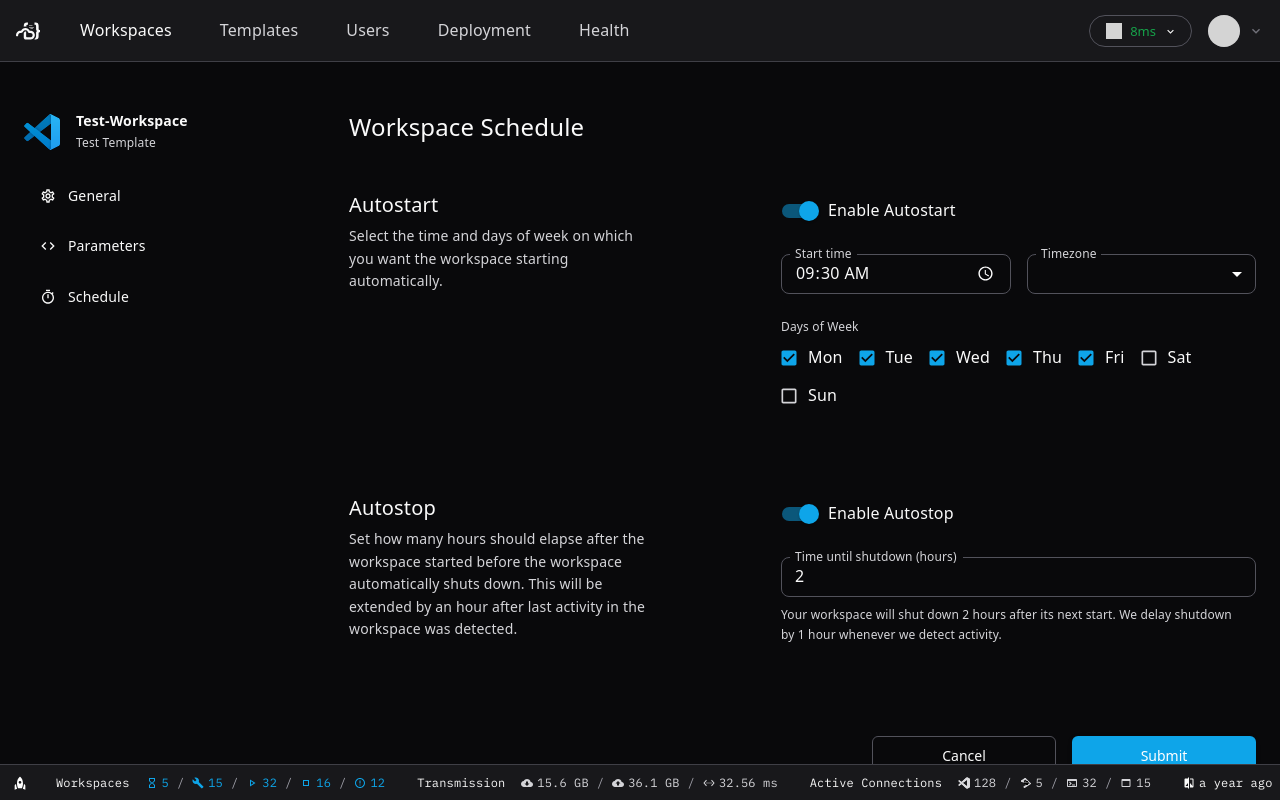
Test: WorkspaceSchedulePage › autostop change dialog › shows if autostop is changed
This screenshot has width=1280, height=800.
Click the checkbox labelled "Enable Autostop": (868, 513) [782,502,954,524]
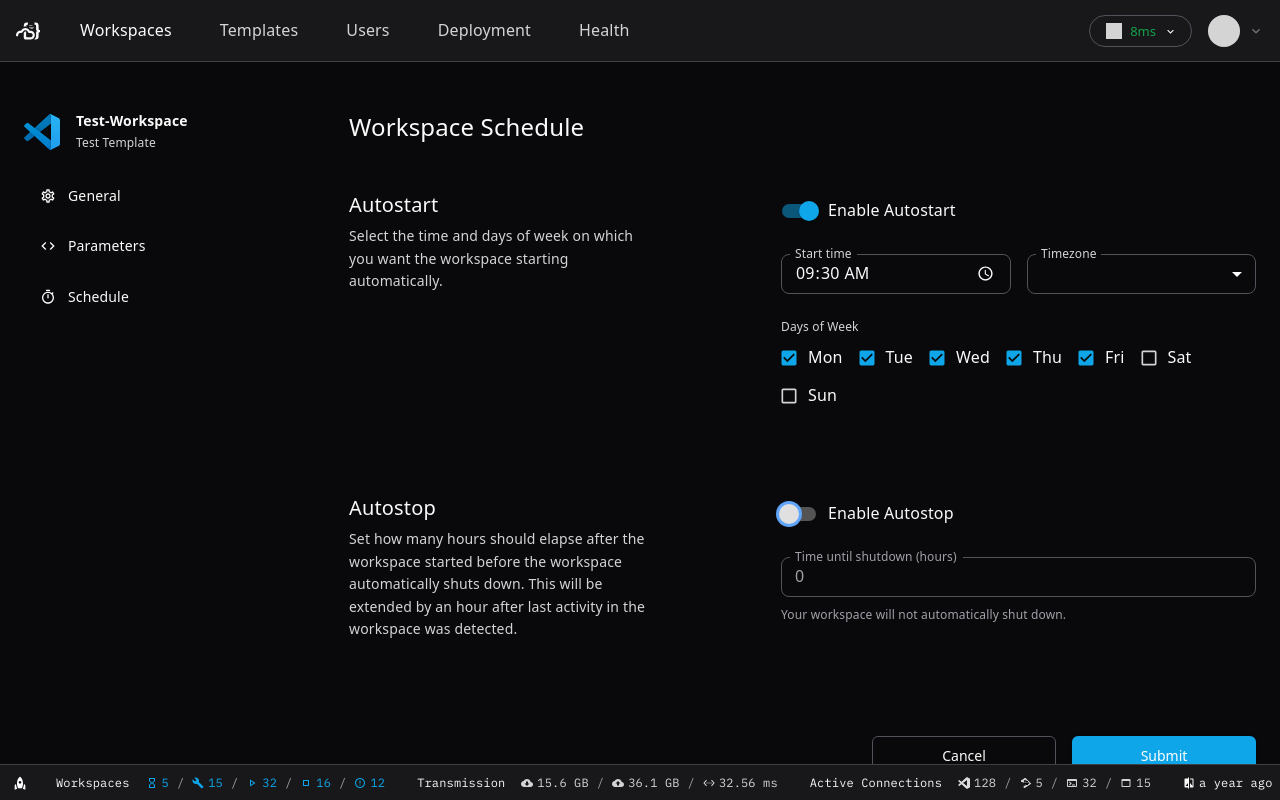
Click the button "Submit": (1164, 756) [1072,736,1256,776]
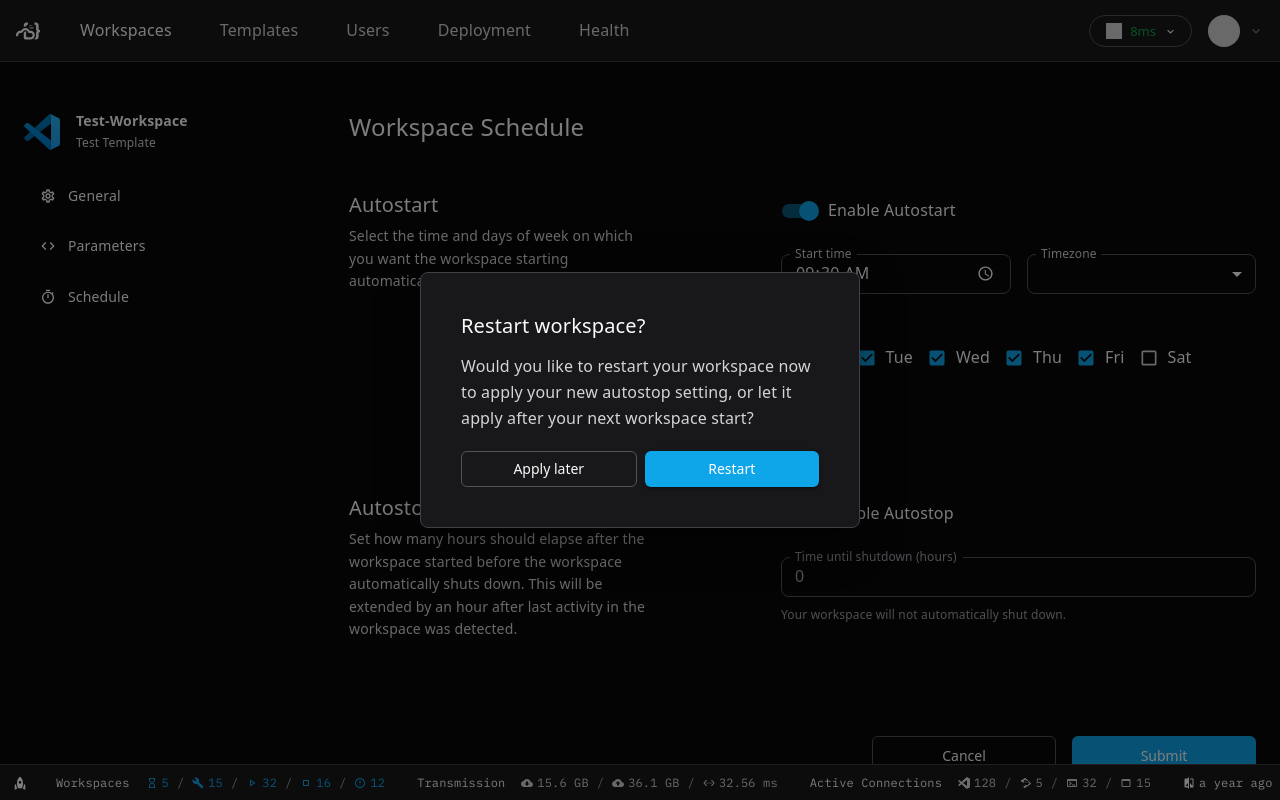
Result: the heading "Restart workspace?" is shown at [461,312,646,339]
